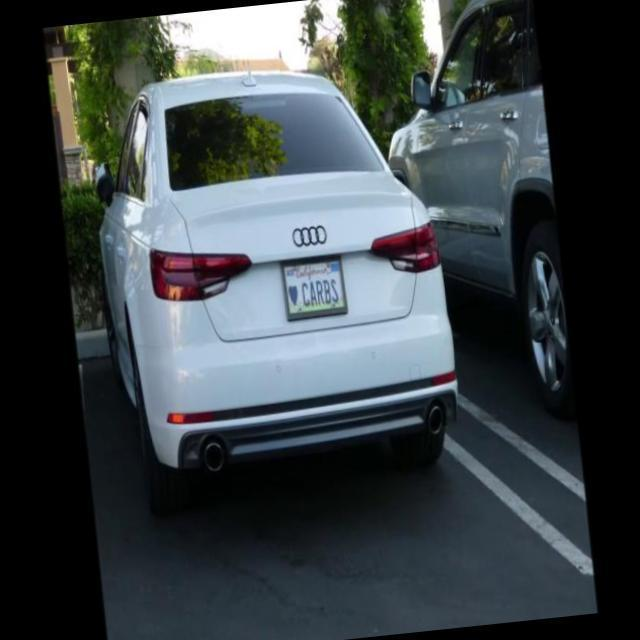License Plate: (284, 255, 348, 318)
